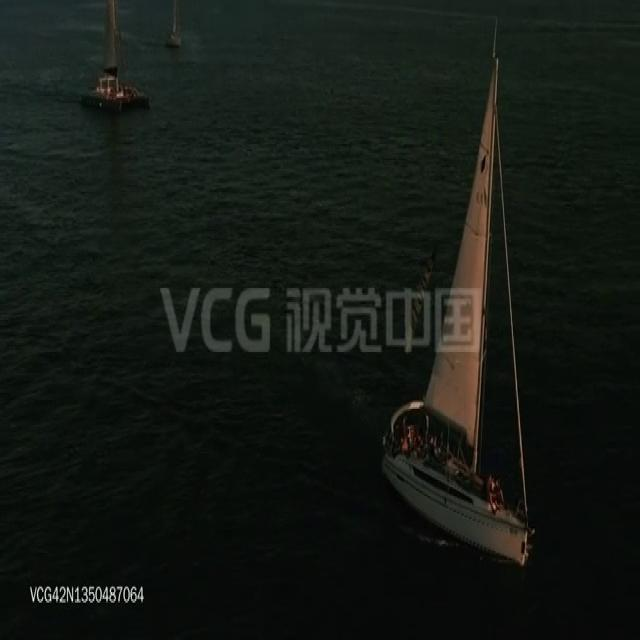sailboat: (383, 40, 538, 560), (72, 3, 149, 118), (163, 0, 184, 50)
